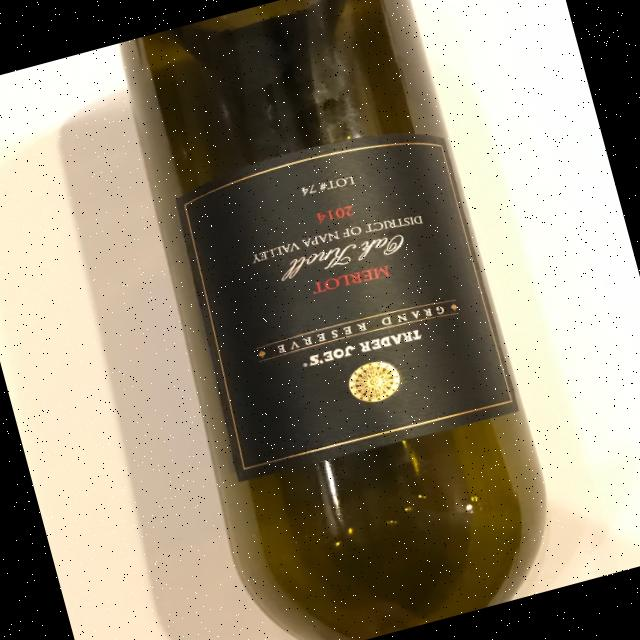glass: (96, 0, 572, 640)
